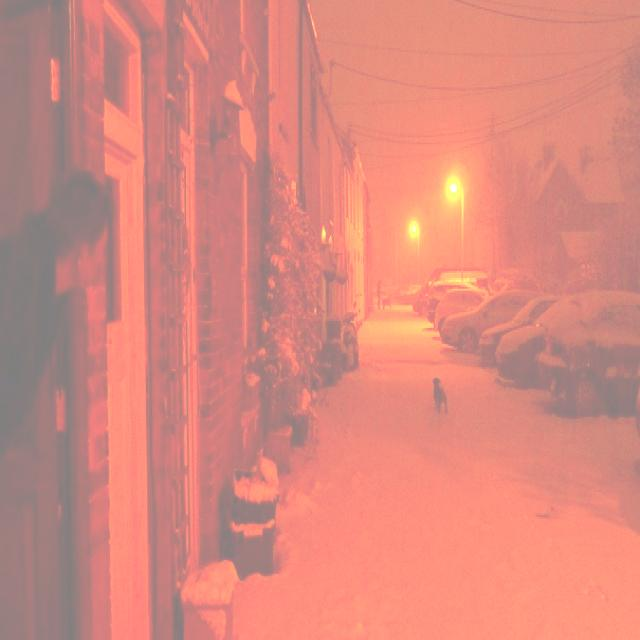Dog: (416, 298, 451, 445), (372, 281, 399, 322)
